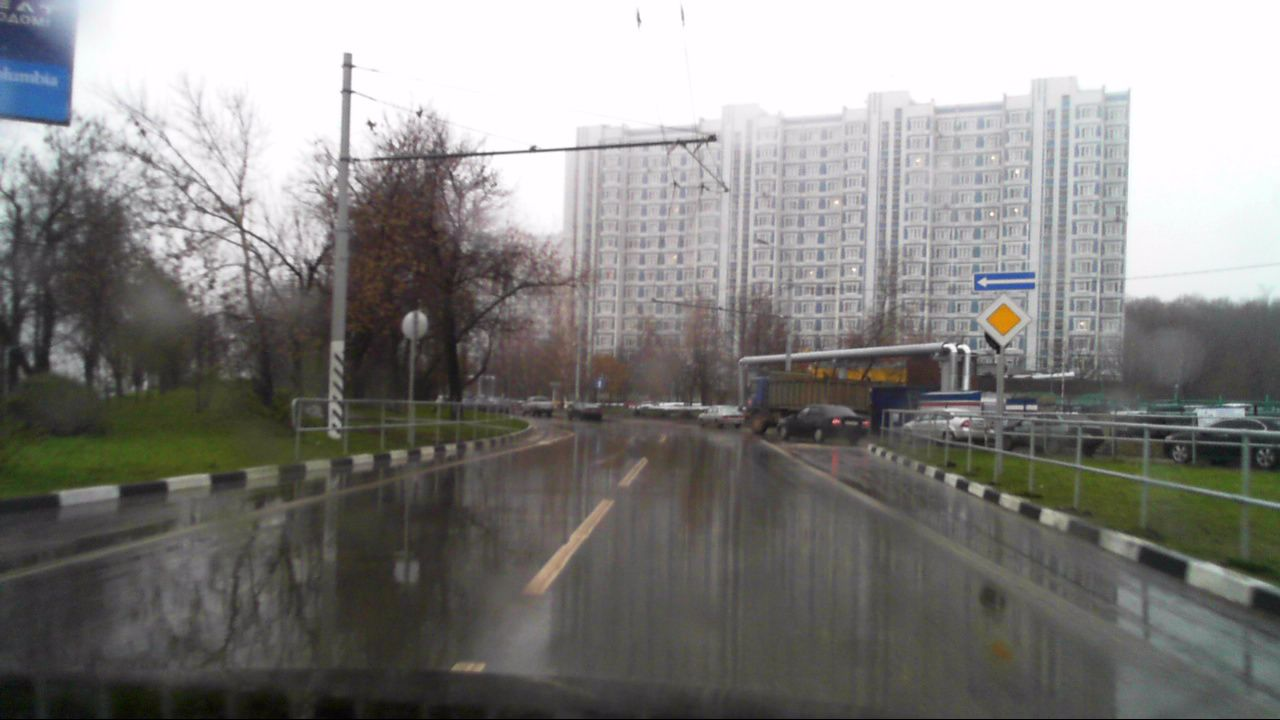One-Way Traffic: (973, 272, 1036, 290)
